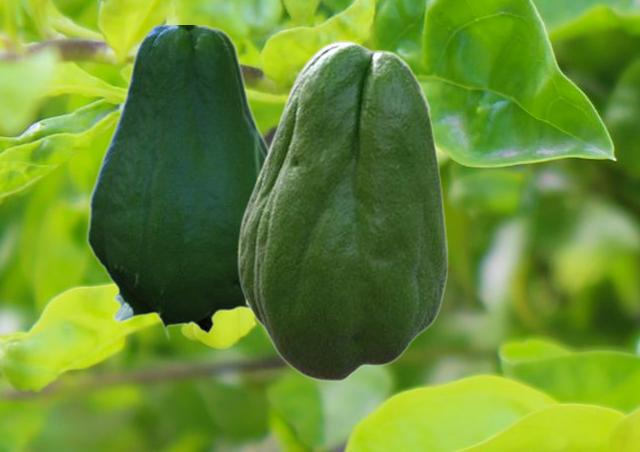sayote: (237, 40, 448, 381), (86, 25, 268, 339)
